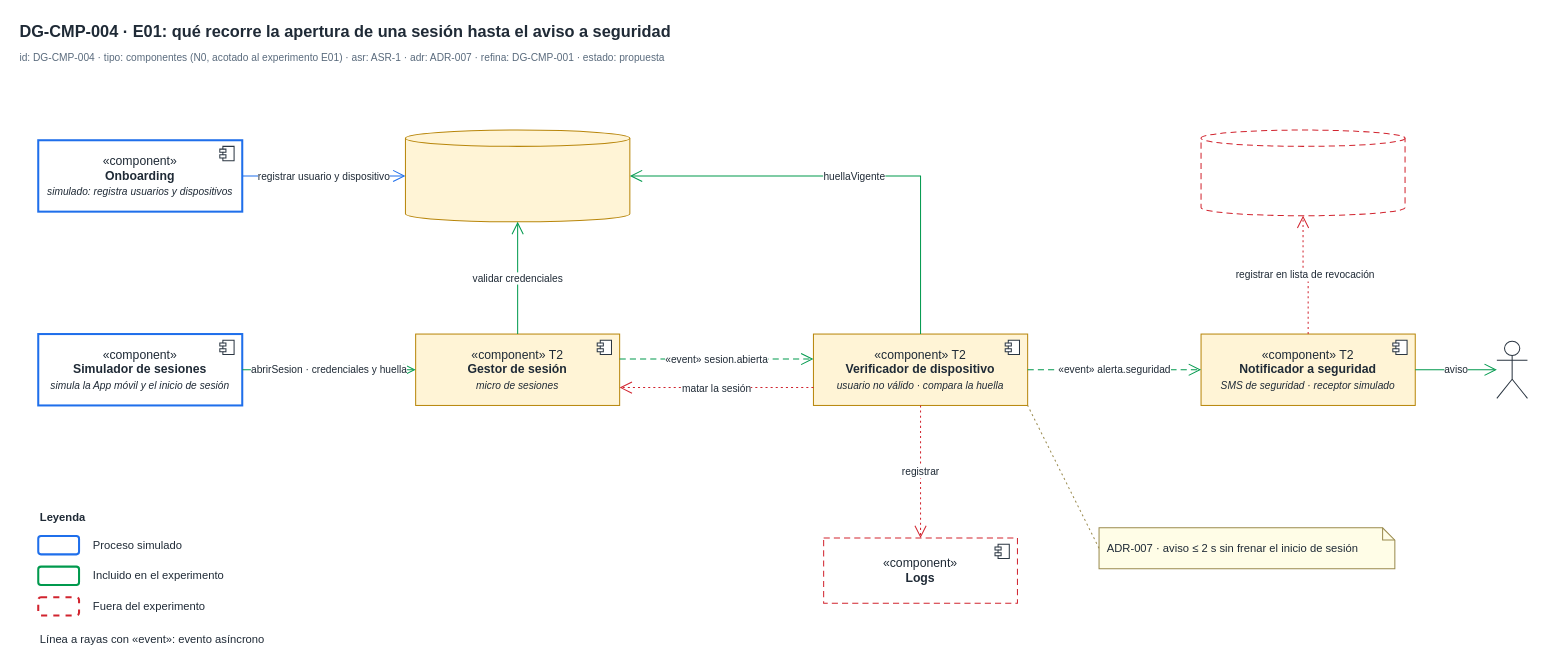
This 1565x667 diagram has some shape labels left out. Each missing label, with the centre of its shape:
«datastore» SIMULADOR-DB usuario · contraseña · ID de dispositivo: pixel 517 175
«datastore» T1 Lista de revocación usuarios revocados: pixel 1302 172
Área de seguridad: pixel 1511 369
